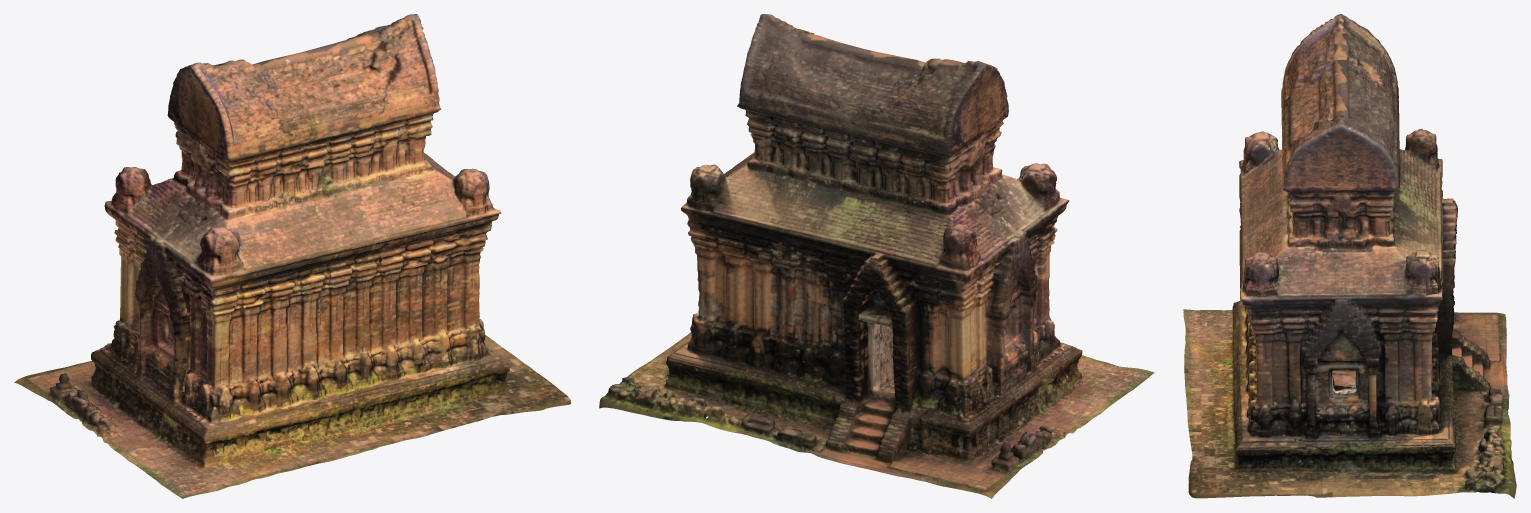
The model's file is thape7_final.glb.
3 renders of one model, left to right at view 1: azimuth 30°, elevation 25°; view 2: azimuth 150°, elevation 25°; view 3: azimuth 270°, elevation 25°, orthographic. The views are drawn at different scales.
Size of the model in its own units: 10.44 by 8.96 by 7.86.
Materials: 1 (1 with a texture image).
